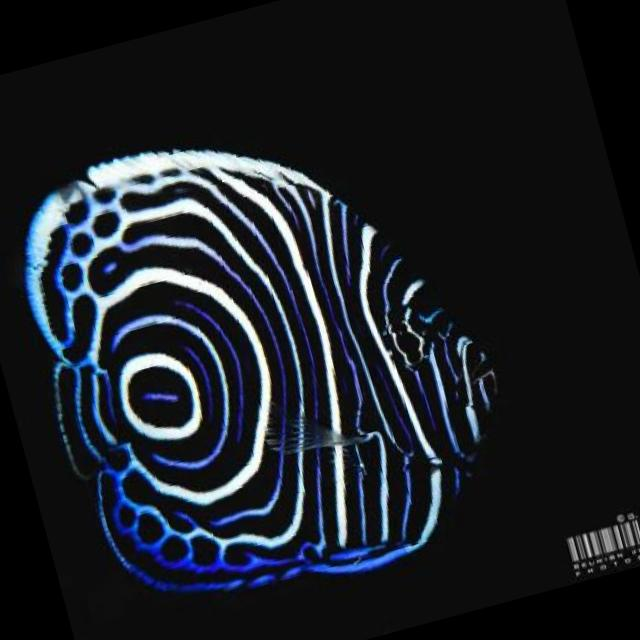AngelFish: (0, 74, 537, 638)
